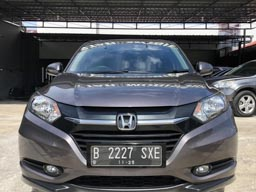plat: (89, 145, 165, 160)
